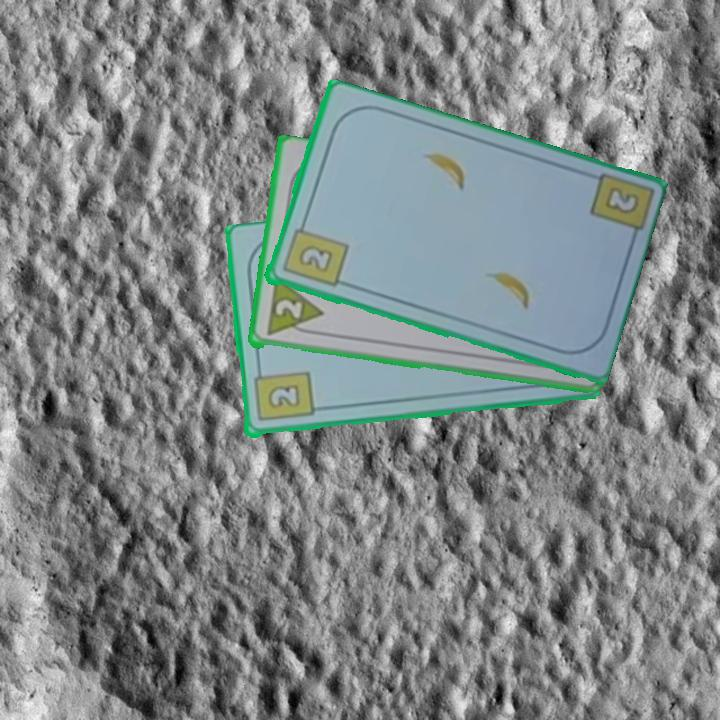2b: (278, 217, 350, 291), (250, 363, 316, 425), (600, 183, 642, 218)
2p: (271, 296, 305, 323)
